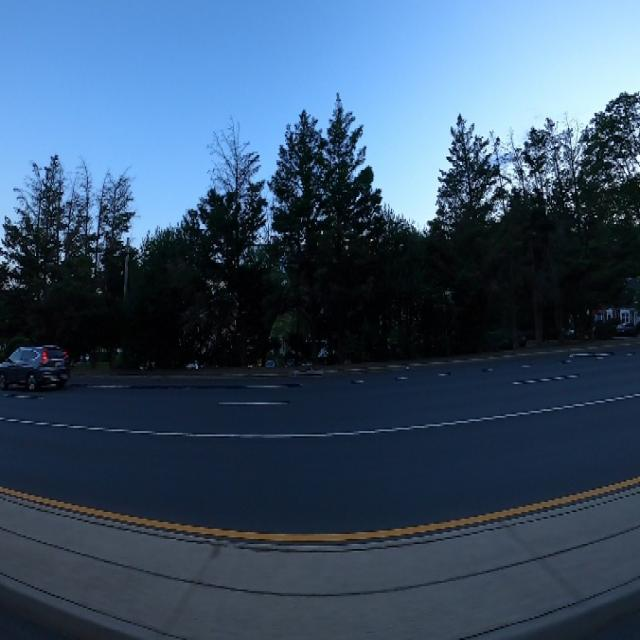car: (0, 322, 78, 399)
